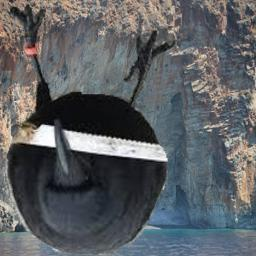Crow: (1, 0, 177, 256)
